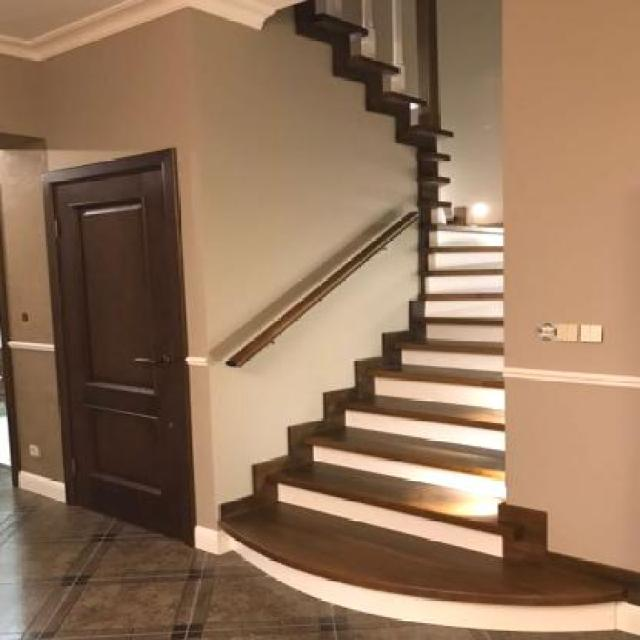stair: (147, 51, 555, 582)
